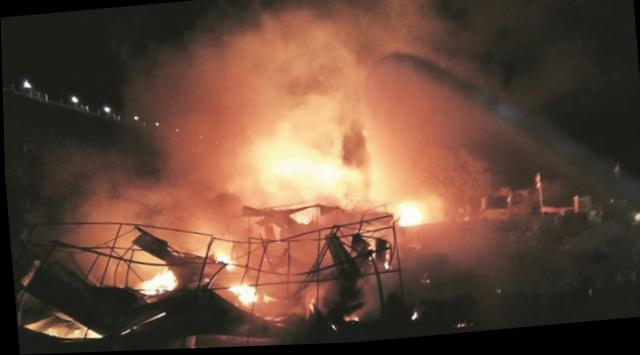fire: (240, 115, 379, 213), (389, 202, 428, 231), (142, 267, 178, 296), (204, 246, 235, 268), (223, 283, 254, 304)
smoke: (102, 0, 520, 138), (5, 126, 229, 203), (375, 105, 542, 192), (25, 191, 226, 247)
